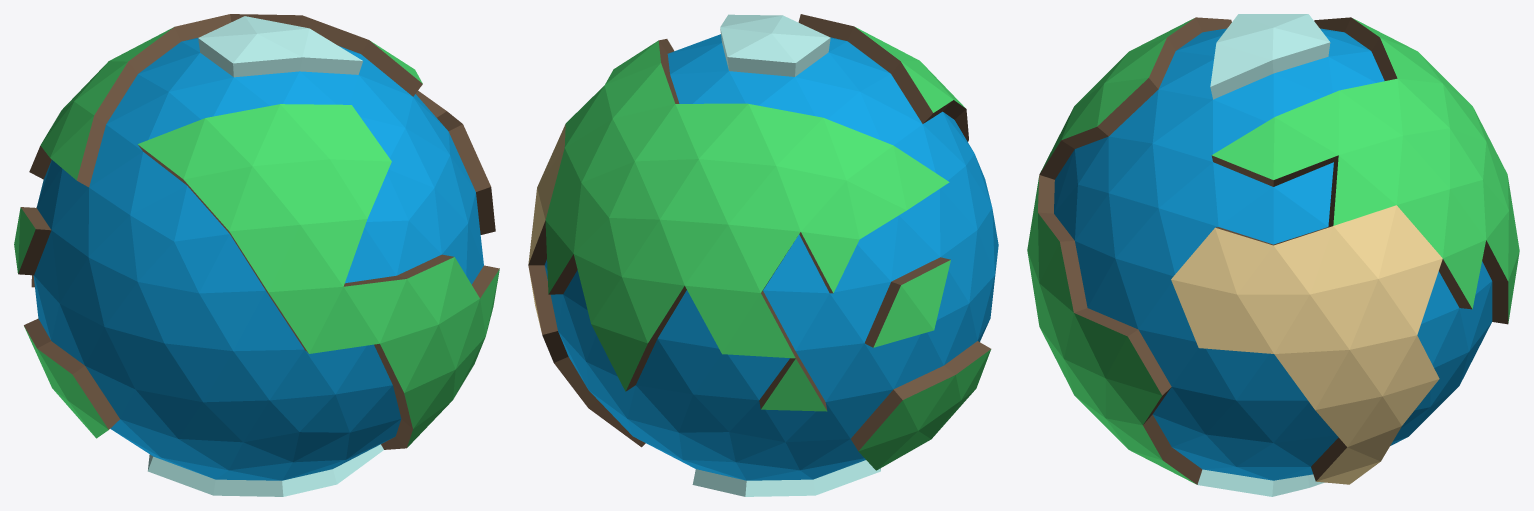
File: earth.obj
3 views of the same model, side by side, from view 1: azimuth 30°, elevation 25°; view 2: azimuth 150°, elevation 25°; view 3: azimuth 270°, elevation 25° (orthographic).
Parts seen in each view (by area): view 1: 아이코스피어; view 2: 아이코스피어; view 3: 아이코스피어.
Part boxes in pixels (box(x1,y1,x2,y2)): 아이코스피어: box(14, 14, 499, 496); 아이코스피어: box(528, 14, 998, 496); 아이코스피어: box(1027, 14, 1519, 496).
Bounding box in the file's own units: 9.58 × 9.8 × 9.79.
